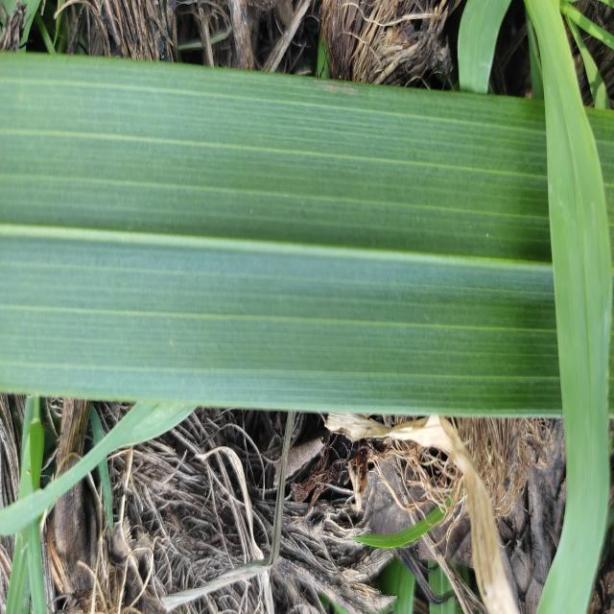Healthy: (0, 50, 614, 414)
